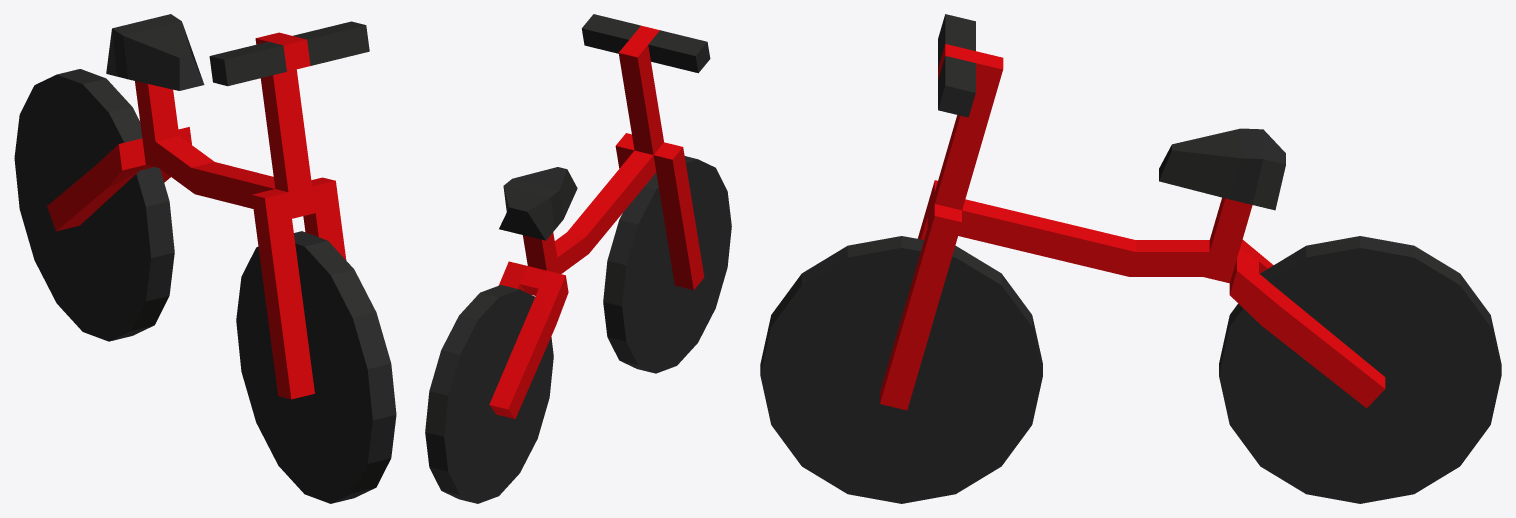
The model's file is Bike.glb.
3 views of the same model, side by side, from view 1: azimuth 30°, elevation 25°; view 2: azimuth 150°, elevation 25°; view 3: azimuth 270°, elevation 25° (orthographic). The views are drawn at different scales.
Parts seen in each view (by area): view 1: Cube, Cylinder.001, Cylinder; view 2: Cube, Cylinder.001, Cylinder; view 3: Cylinder, Cylinder.001, Cube.
Part boxes in pixels (<box>): Cube: <box>47,14,369,399</box>; Cylinder.001: <box>14,69,174,341</box>; Cylinder: <box>236,231,396,503</box>; Cube: <box>489,14,710,418</box>; Cylinder.001: <box>425,285,553,503</box>; Cylinder: <box>603,156,731,373</box>; Cylinder: <box>760,236,1042,503</box>; Cylinder.001: <box>1219,236,1501,503</box>; Cube: <box>880,14,1385,410</box>.
Size of the model in its own units: 0.315 by 0.9188 by 1.38.
